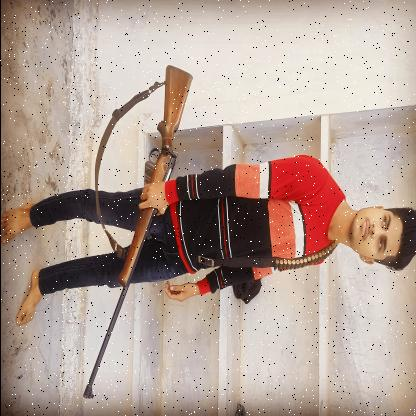rifle: (80, 63, 194, 401)
